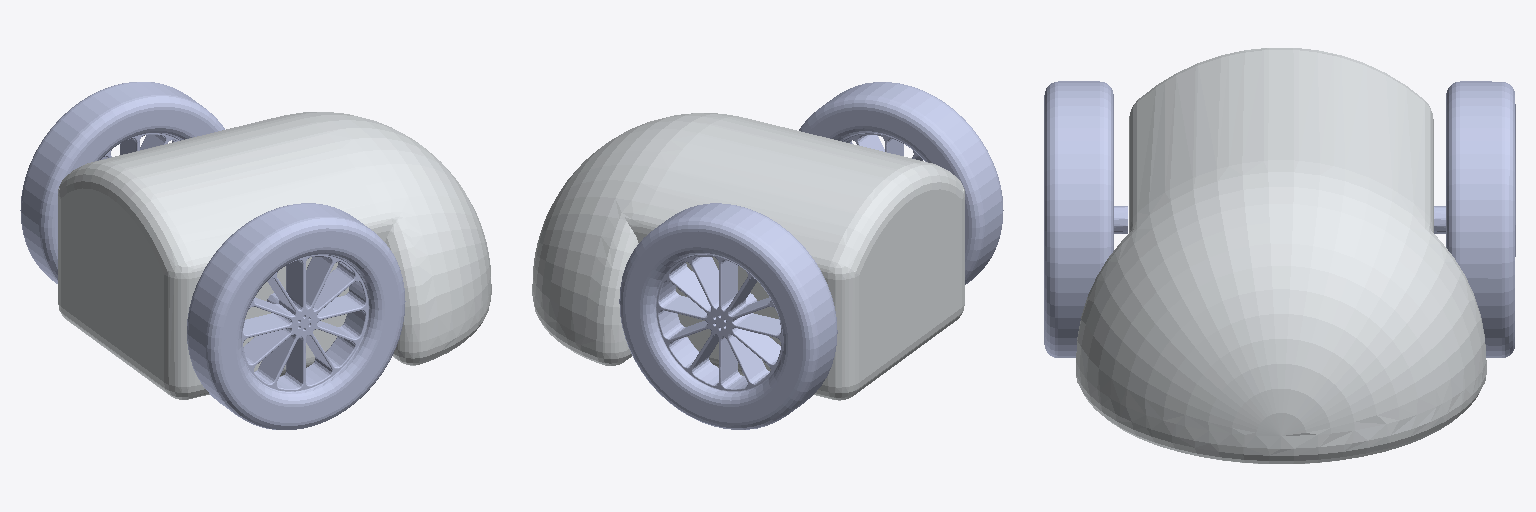
The robot description file, URDF, robot "serena":
<?xml version="1.0"?>
<robot name="serena" xmlns:xacro="http://ros.org/wiki/xacro">
  
  
  <material name="blue">
    <color rgba="0 0 0.8 1"/>
  </material>

  <material name="black">
    <color rgba="0 0 0 1"/>
  </material>

  <material name="white">
    <color rgba="1 1 1 1"/>
  </material>
   
  <link name="base_footprint"/>


  <link
    name="base_link" type="fixed">
    <inertial>
      <origin
        xyz="0.07 0.0 0.08"
        rpy="0 0 0" />
      <mass
        value="5" />
      <inertia
        ixx="0.08"
        ixy="0.0"
        ixz="-0.01"
        iyy="0.13"
        iyz="0.00"
        izz="0.16" />
    </inertial>
    
    <visual>
      <origin
        xyz="-0.10179 -0.149 0"
        rpy="0 0 0" />
      <geometry>
        <mesh
          filename="package://bugbot_urdf_description/meshes/BugBotBodyV3.STL"/>
      </geometry>
      <material
        name="">
        <color
          rgba="0.898039215686275 0.913725490196078 0.925490196078431 1" />
      </material>
    </visual>
    <collision>
      <origin
        xyz="-0.10179 -0.149 0"
        rpy="0 0 0" />
      <geometry>
        <mesh
          filename="package://bugbot_urdf_description/meshes/BugBotBodyV3.STL"/>
      </geometry>
    </collision>
  </link>
  <joint name="base_joint" type="fixed">
    <parent link="base_footprint"/>
    <child link="base_link"/>
    <origin xyz="0 0 0" rpy="0 0 0"/>
  </joint>
  
 
  
  
  <link
    name="wheel_right_link">
    <inertial>
      <origin
        xyz="0 0 0"
        rpy="0 0 0" />
      <mass
        value="0.887893590942272" />
      <inertia
        ixx="0.00271426770923714"
        ixy="-5.4847246957164E-19"
        ixz="2.41821291643718E-13"
        iyy="0.00271494625570355"
        iyz="1.54477498324254E-18"
        izz="0.00523534304977873" />
    </inertial>
    
    <visual>
      <origin
        xyz="0 0 0"
        rpy="0 0 0" />
      <geometry>
        <mesh
          filename="package://bugbot_urdf_description/meshes/Wheel.STL" />
      </geometry>
      <material
        name="">
        <color
          rgba="0.792156862745098 0.819607843137255 0.933333333333333 1"/>
      </material>
    </visual>
    
    <collision>
      <origin
        xyz="0 0 0"
        rpy="0 0 0" />
      <geometry>
        <mesh
          filename="package://bugbot_urdf_description/meshes/Wheel.STL" />
      </geometry>
    </collision>
  </link>
  
  <joint
    name="wheel_right_joint"
    type="continuous">
    <origin
      xyz="0 -0.145 0.10223"
      rpy="1.5708 0 -3.1416" />
    <parent
      link="base_link" />
    <child
      link="wheel_right_link" />
    <axis
      xyz="0 0 1" />
    <limit
      effort="82"
      velocity="10" />
  </joint>
  
  
  
  <link
    name="wheel_left_link">
    <inertial>
      <origin
        xyz="0 0 0"
        rpy="0 0 0" />
      <mass
        value="0.887893590942272" />
      <inertia
        ixx="0.00271426770923714"
        ixy="5.40703247508002E-19"
        ixz="2.41832420741438E-13"
        iyy="0.00271494625570355"
        iyz="5.57398608182026E-20"
        izz="0.00523534304977873" />
    </inertial>
    <visual>
      <origin
        xyz="0 0 0"
        rpy="0 3.141 0" />
      <geometry>
        <mesh
          filename="package://bugbot_urdf_description/meshes/Wheel.STL" />
      </geometry>
      <material
        name="">
        <color
          rgba="0.792156862745098 0.819607843137255 0.933333333333333 1" />
      </material>
    </visual>
    <collision>
      <origin
        xyz="0 0 0"
        rpy="0 0 0" />
      <geometry>
        <mesh
          filename="package://bugbot_urdf_description/meshes/Wheel.STL" />
      </geometry>
    </collision>
  </link>
  <joint
    name="wheel_left_joint"
    type="continuous">
    <origin
      xyz="0 0.145 0.10223"
      rpy="1.5708 0 -3.1416" />
    <parent
      link="base_link" />
    <child
      link="wheel_left_link" />
    <axis
      xyz="0 0 1" />
    <limit
      effort="82"
      velocity="10" />
  </joint>
  
  <link name="IMU">
  </link>
  <gazebo reference="IMU">
	<sensor name="my_imu" type="imu">
		<always_on>true</always_on>
		<update_rate>30</update_rate>
		
		<imu>
          <angular_velocity>
            <x>
              <noise type="gaussian">
                <mean>0.0</mean>
                <stddev>2e-4</stddev>
              </noise>
            </x>
            <y>
              <noise type="gaussian">
                <mean>0.0</mean>
                <stddev>2e-4</stddev>
              </noise>
            </y>
            <z>
              <noise type="gaussian">
                <mean>0.0</mean>
                <stddev>2e-4</stddev>
              </noise>
            </z>
          </angular_velocity>
          <linear_acceleration>
            <x>
              <noise type="gaussian">
                <mean>0.0</mean>
                <stddev>1.7e-2</stddev>
              </noise>
            </x>
            <y>
              <noise type="gaussian">
                <mean>0.0</mean>
                <stddev>1.7e-2</stddev>
              </noise>
            </y>
            <z>
              <noise type="gaussian">
                <mean>0.0</mean>
                <stddev>1.7e-2</stddev>
              </noise>
            </z>
          </linear_acceleration>
        </imu>
        
        
		<plugin name="my_imu_plugin" filename="libgazebo_ros_imu_sensor.so">
		  <ros>
		    <!-- Will publish to /imu/data -->
		    <namespace>/</namespace>
		    <argument>~/out:=imu</argument>
		  </ros>
		  <!-- frame_name ommited, will be "my_link" -->
		</plugin>
	  </sensor> 
  </gazebo>
  
  <joint name="IMU_joint" type="fixed">
    <parent link="base_link"/>
    <child link="IMU"/>
    <origin xyz="0 0 0.08223" rpy="0 0 0"/>
  </joint>
  
  <link name="GPS_link">
  </link> 	
  <gazebo reference="GPS_link">  
	<sensor name="gps_sensor" type="gps">
        <always_on>true</always_on>
        <update_rate>1.0</update_rate>
        <plugin name="gps_controller" filename="libgazebo_ros_gps_sensor.so">
            <ros>
                <!-- <namespace>/br</namespace> -->
                <remapping>gps_controller/out:=gps</remapping>
            </ros>
            <frame_name>GPS_link</frame_name>
        </plugin>
    </sensor>
    <material>Gazebo/Grey</material>
  </gazebo>
  
  <joint name="GPS_joint" type="fixed">
    <parent link="base_link"/>
    <child link="GPS_link"/>
    <origin xyz="0 0 0.08223" rpy="0 0 0"/>
  </joint>
  
  
   
  <gazebo reference="wheel_left_link">
    <mu1>1.0</mu1>
    <mu2>1.0</mu2>
    <kp>500000.0</kp>
    <kd>10.0</kd>
    <minDepth>0.001</minDepth>
    <maxVel>10.0</maxVel>
    <fdir1>1 0 0</fdir1>
    <material>Gazebo/Gold</material>
  </gazebo>

  <gazebo reference="wheel_right_link">
    <mu1>1.0</mu1>
    <mu2>1.0 </mu2>
    <kp>500000.0</kp>
    <kd>10.0</kd>
    <minDepth>0.001</minDepth>
    <maxVel>10.0</maxVel>
    <fdir1>1 0 0</fdir1>
    <material>Gazebo/Gold</material>
  </gazebo>


  <gazebo reference="base_link">
    <mu1>0.0</mu1>
    <mu2>0.0</mu2>
    <kp>1000000.0</kp>
    <kd>100.0</kd>
    <minDepth>0.001</minDepth>
    <maxVel>10.0</maxVel>
    
  </gazebo>
  
  
  
  <gazebo>
	<plugin name="gazebo_ros_p3d" filename="libgazebo_ros_p3d.so">
		<ros>
		  <!-- Add namespace and remap the default topic -->
		  <namespace>/</namespace>
		  <argument>odom:=ground_truth_odom</argument>
		</ros>
		<!-- Replace camelCase elements with camel_case ones -->
		<body_name>base_footprint</body_name>
		<frame_name>world</frame_name>
		<update_rate>10</update_rate>
		<xyz_offsets>0 0 0</xyz_offsets>
		<rpy_offsets>0.0 0.0 0.0</rpy_offsets>
		<gaussian_noise>0.0</gaussian_noise>
	</plugin>

	<plugin name="differential_drive_controller" filename="libgazebo_ros_diff_drive.so">
	     <ros>
		  <!-- Set namespace -->
		  <namespace>/</namespace>

		  <!-- Remap default topics -->
		  <argument>cmd_vel:=cmd_vel</argument>
		  <argument>odom:=odom</argument>
		</ros>


	    <!-- Plugin update rate in Hz -->
	    <update_rate>20</update_rate>

	    <!-- Name of left joint, defaults to `left_joint` -->
	    <left_joint>wheel_left_joint</left_joint>

	    <!-- Name of right joint, defaults to `right_joint` -->
	    <right_joint>wheel_right_joint</right_joint>

	    <!-- The distance from the center of one wheel to the other, in meters, defaults to 0.34 m -->
	    <wheel_separation>0.290</wheel_separation>

	    <!-- Diameter of the wheels, in meters, defaults to 0.15 m -->
	    <wheel_diameter>0.200</wheel_diameter>

	    <!-- Wheel acceleration, in rad/s^2, defaults to 0.0 rad/s^2 -->
	    <wheelAcceleration>0.8</wheelAcceleration>

	    <!-- Maximum torque which the wheels can produce, in Nm, defaults to 5 Nm -->
	    <wheelTorque>10</wheelTorque>

	   

	    <!-- Odometry frame, defaults to `odom` -->
	    <odometry_frame>odom</odometry_frame>

	    <!-- Robot frame to calculate odometry from, defaults to `base_footprint` -->
	    <robotBaseFrame>base_footprint</robotBaseFrame>

	    <!-- Odometry source, 0 for ENCODER, 1 for WORLD, defaults to WORLD -->
	    <odometrySource>1</odometrySource>

	    <!-- Set to true to publish transforms for the wheel links, defaults to false -->
	    <publishWheelTF>true</publishWheelTF>
	    
	    <publishOdom>true</publishOdom>

	    <!-- Set to true to publish transforms for the odometry, defaults to true -->
	    <publish_odom>true</publish_odom>

	    <!-- Set to true to publish sensor_msgs/JointState on /joint_states for the wheel joints, defaults to false -->
	    <publishWheelJointState>true</publishWheelJointState>

	    <!-- Set to true to swap right and left wheels, defaults to true -->
	    <legacyMode>false</legacyMode>
	    
	    
	    <max_wheel_torque>200</max_wheel_torque>
	    <max_acceleration>3.0</max_acceleration>
		
		
	  </plugin>
  </gazebo>
  
  
</robot>

--- What the picture shows (computed from the rendered views, not written in the file) ---
3 views of the same robot in one strip: view 1: azimuth 30°, elevation 25°; view 2: azimuth 150°, elevation 25°; view 3: azimuth 270°, elevation 25° (orthographic).
Robot: serena — 6 links, 5 joints (2 continuous, 3 fixed); root link base_footprint; default pose: every joint at zero.
Visible links, largest first — view 1: base_link, wheel_right_link, wheel_left_link; view 2: base_link, wheel_left_link, wheel_right_link; view 3: base_link, wheel_right_link, wheel_left_link.
Link boxes in pixels (bbox=[...]): base_link: bbox=[58, 112, 491, 399]; wheel_right_link: bbox=[187, 203, 405, 429]; wheel_left_link: bbox=[20, 82, 224, 283]; base_link: bbox=[532, 113, 964, 400]; wheel_left_link: bbox=[619, 203, 837, 429]; wheel_right_link: bbox=[799, 82, 1003, 284]; base_link: bbox=[1076, 48, 1486, 463]; wheel_right_link: bbox=[1044, 81, 1127, 357]; wheel_left_link: bbox=[1434, 81, 1515, 357].
Bounding box of the posed robot: 0.3586 × 0.3401 × 0.2019 m (x, y, z).
3 mesh visuals loaded from 2 distinct referenced files (2 binary STL).
